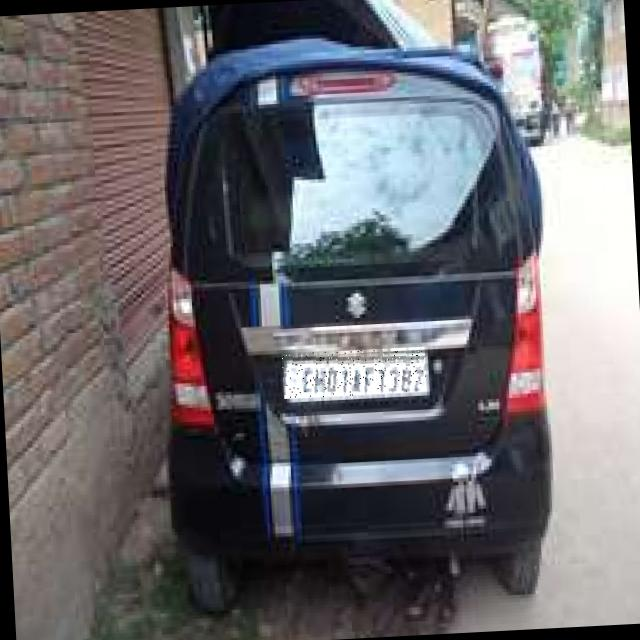Plate: (283, 348, 428, 400)
